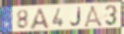3: (102, 4, 119, 27)
4: (52, 7, 65, 28)
8: (16, 9, 29, 30)
A: (29, 7, 51, 31), (82, 4, 104, 28)
J: (69, 7, 82, 27)
